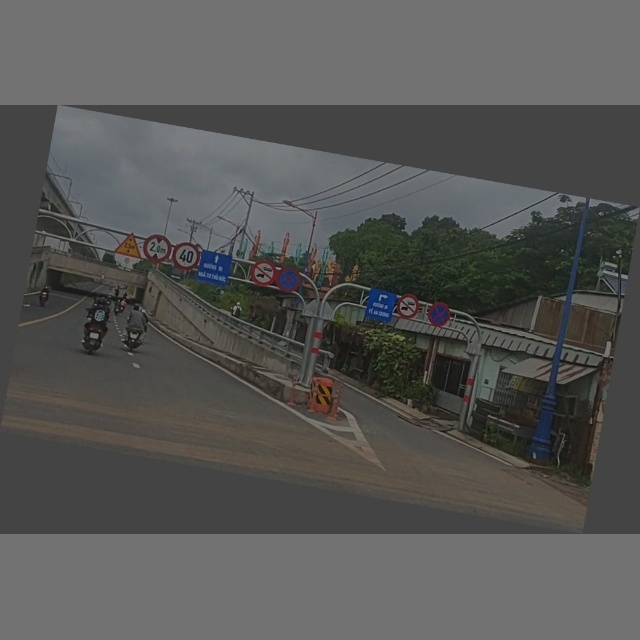P.107: (246, 258, 278, 289), (394, 292, 423, 323)
P.117*: (140, 233, 174, 266)
P.127*40: (171, 240, 202, 274)
P.130: (273, 264, 306, 296), (427, 301, 453, 329)
W.239b*: (113, 230, 144, 259)
